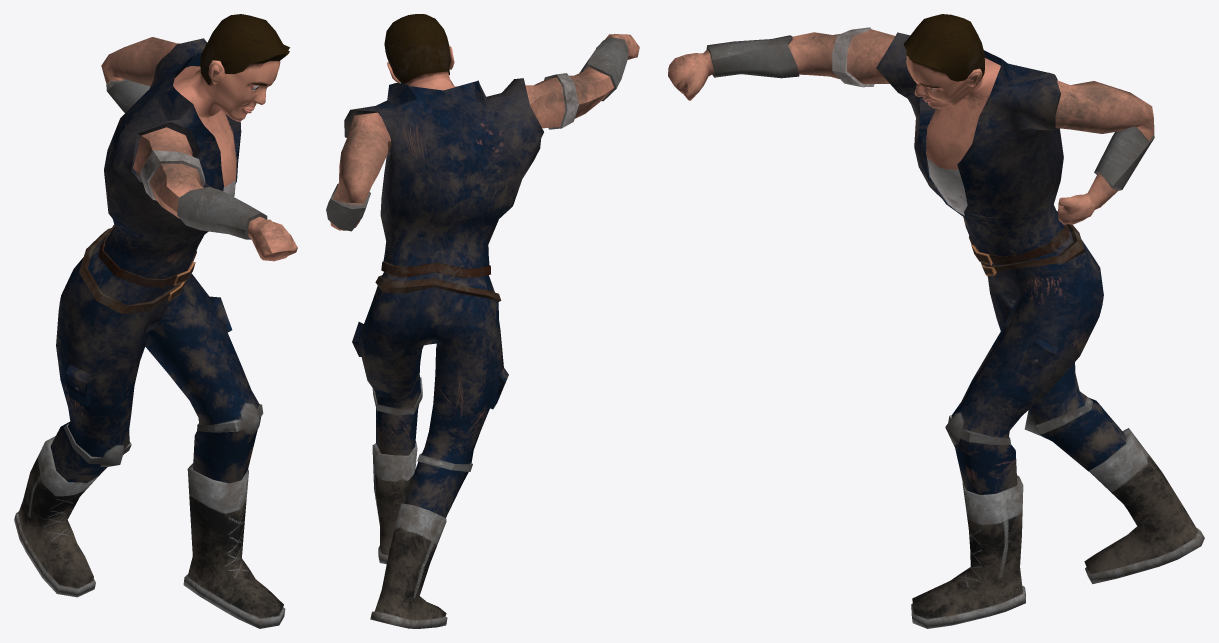
The model's file is Anim_ataque_d1_jugador.0027.obj.
3 renders of one model, left to right at view 1: azimuth 30°, elevation 25°; view 2: azimuth 150°, elevation 25°; view 3: azimuth 270°, elevation 25°, orthographic. The views are drawn at different scales.
Visible parts, largest first — view 1: polySurface1; view 2: polySurface1; view 3: polySurface1.
Part boxes in pixels (box(x1,y1,x2,y2)): polySurface1: box(14, 14, 297, 628); polySurface1: box(326, 14, 639, 628); polySurface1: box(668, 14, 1204, 628).
Size of the model in its own units: 2.82 by 8.91 by 7.17.
